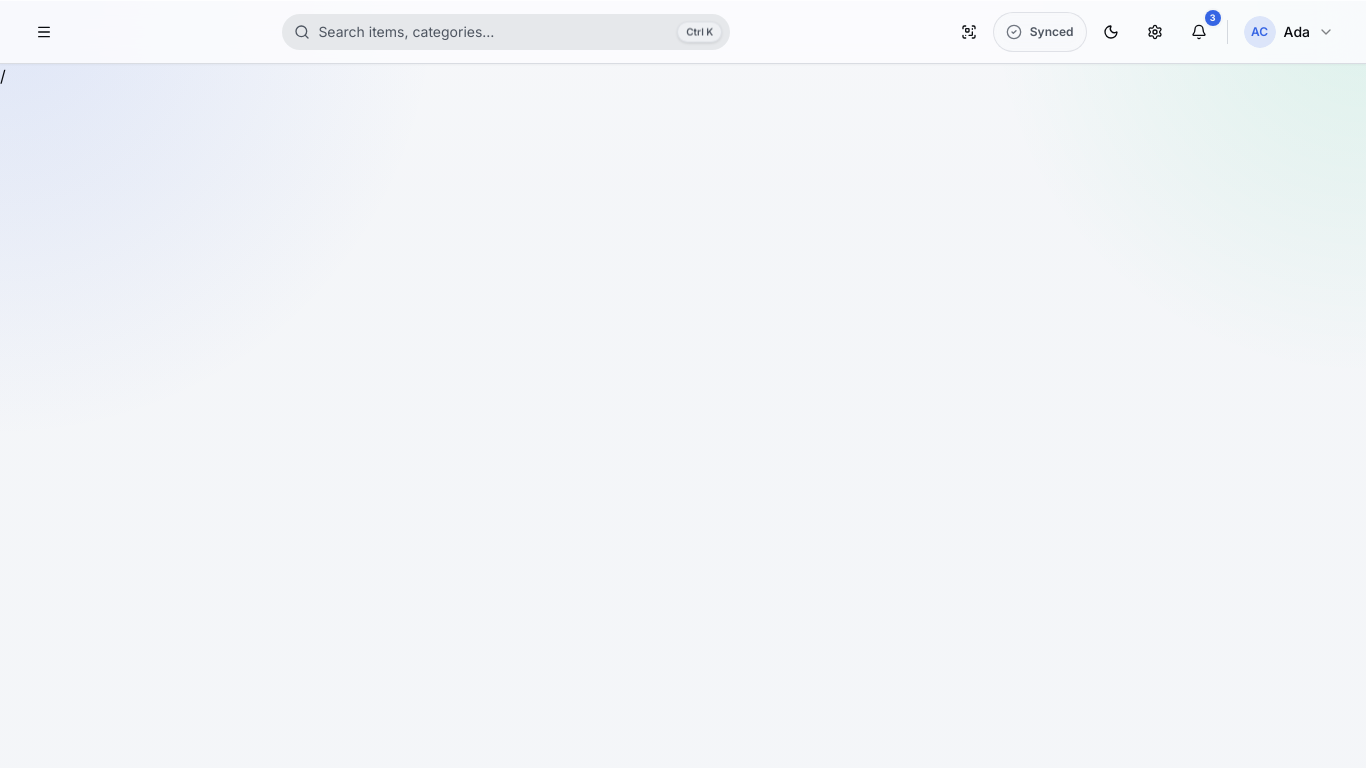
topbar navigation & search › shows loan reminders in the bell and counts overdue ones as unread
Click the button named "open notifications". click: coordinates (1199, 32)
box: [1179,12,1219,52]
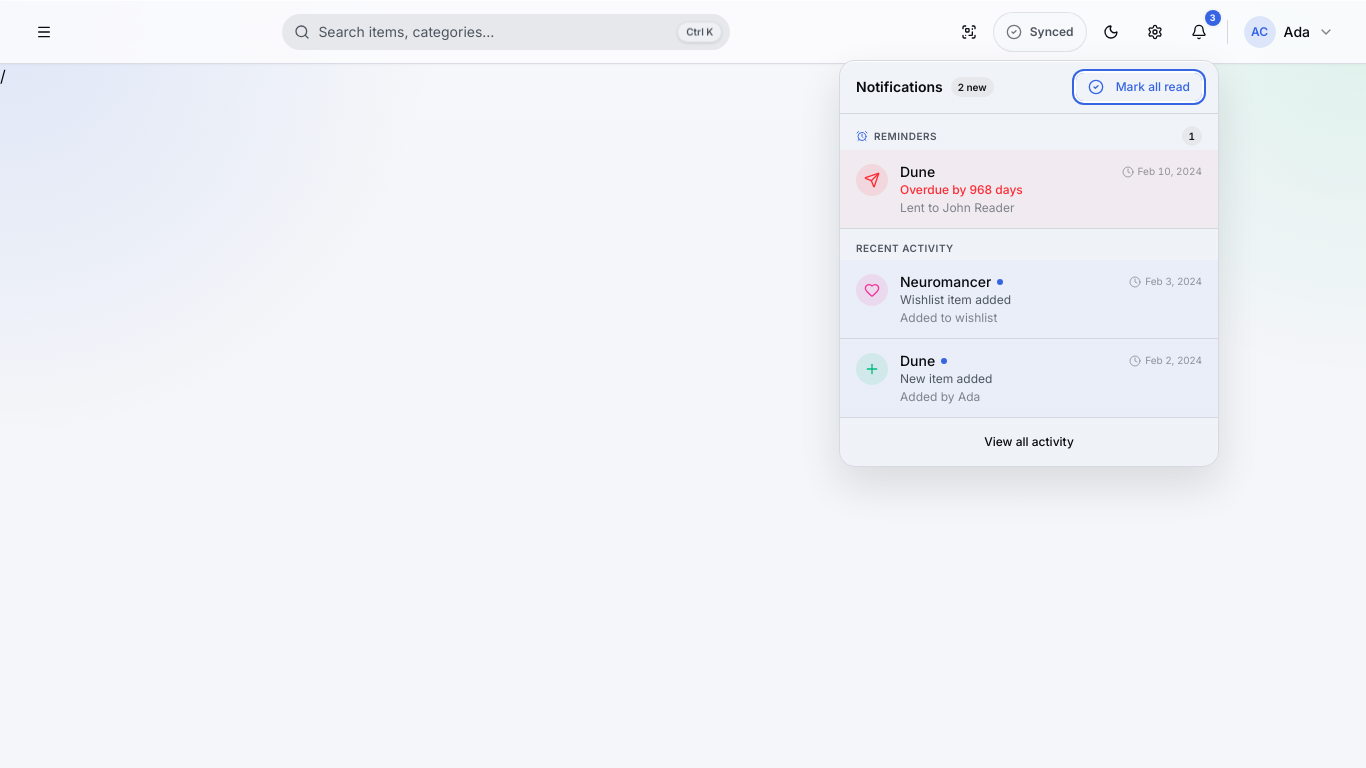
Now the text "Dune" below "Reminders" is shown, box [900,163,935,180]
Now the text "Overdue by 968 days" is shown, box [900,182,1023,197]
Now the text "Lent to John Reader" is shown, box [900,200,1014,215]
Click the button "Dune Overdue by 968 days Lent to John Reader Feb 10, 2024". click: coordinates (872, 180)
box: [840,150,1218,228]
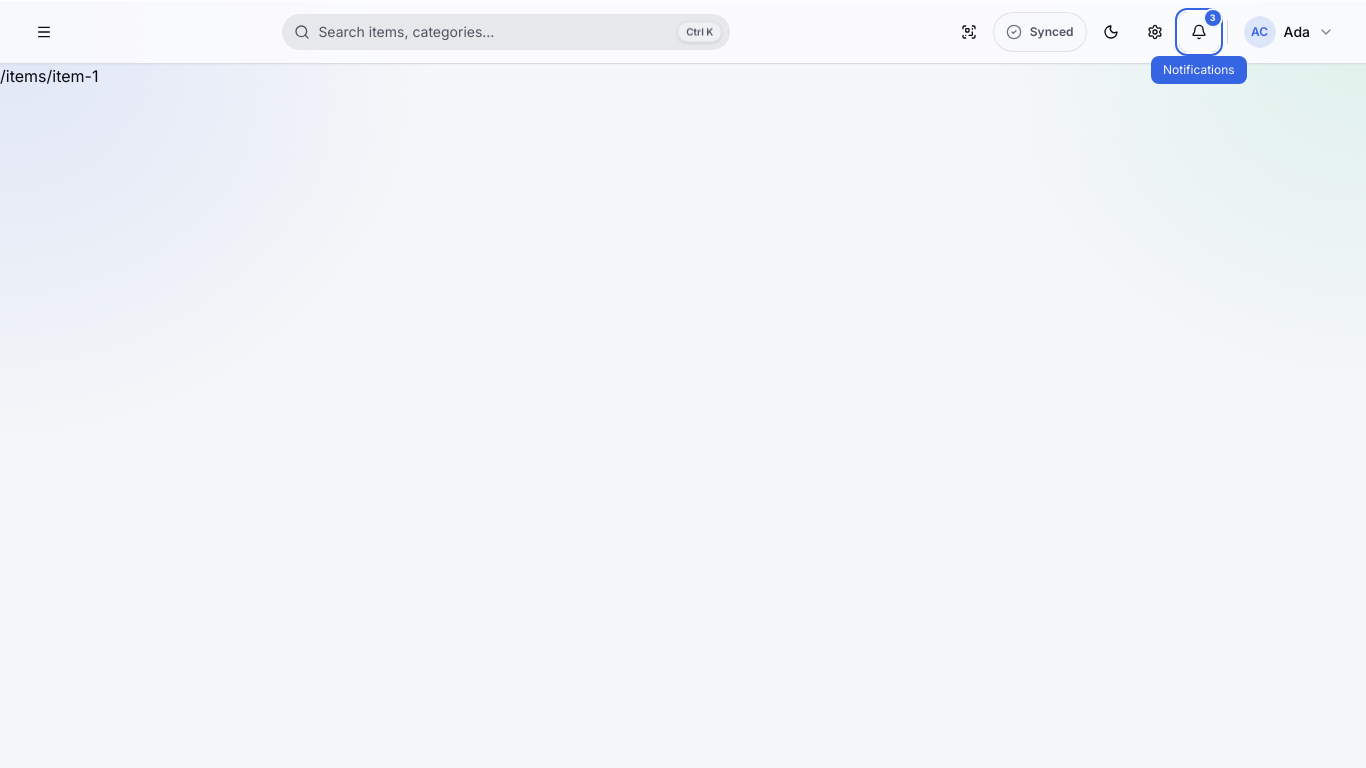
Now the text with test id "location" reads "/items/item-1", box [0,66,98,86]
